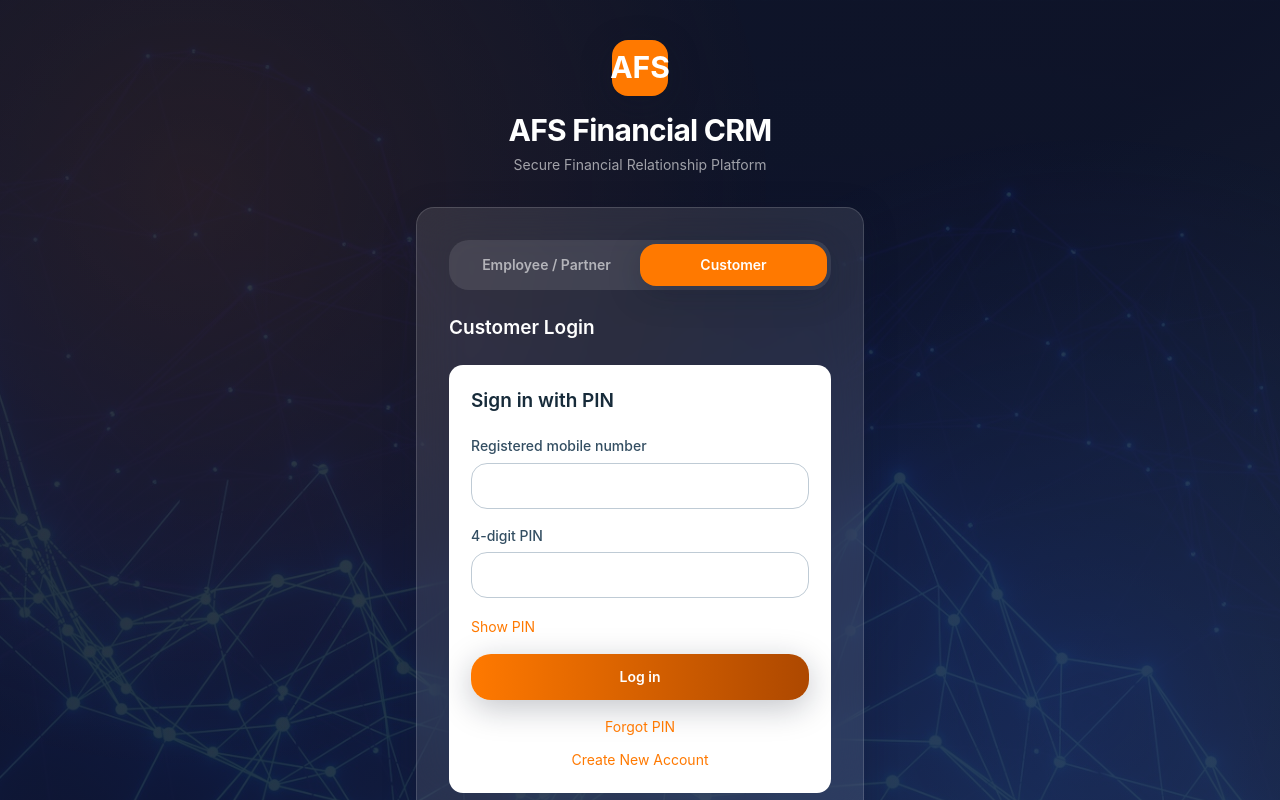
LoginPage default tab › switching to Employee / Partner still works
Click the tab "Employee / Partner" at (546, 265), box x1=453 y1=244 x2=640 y2=286
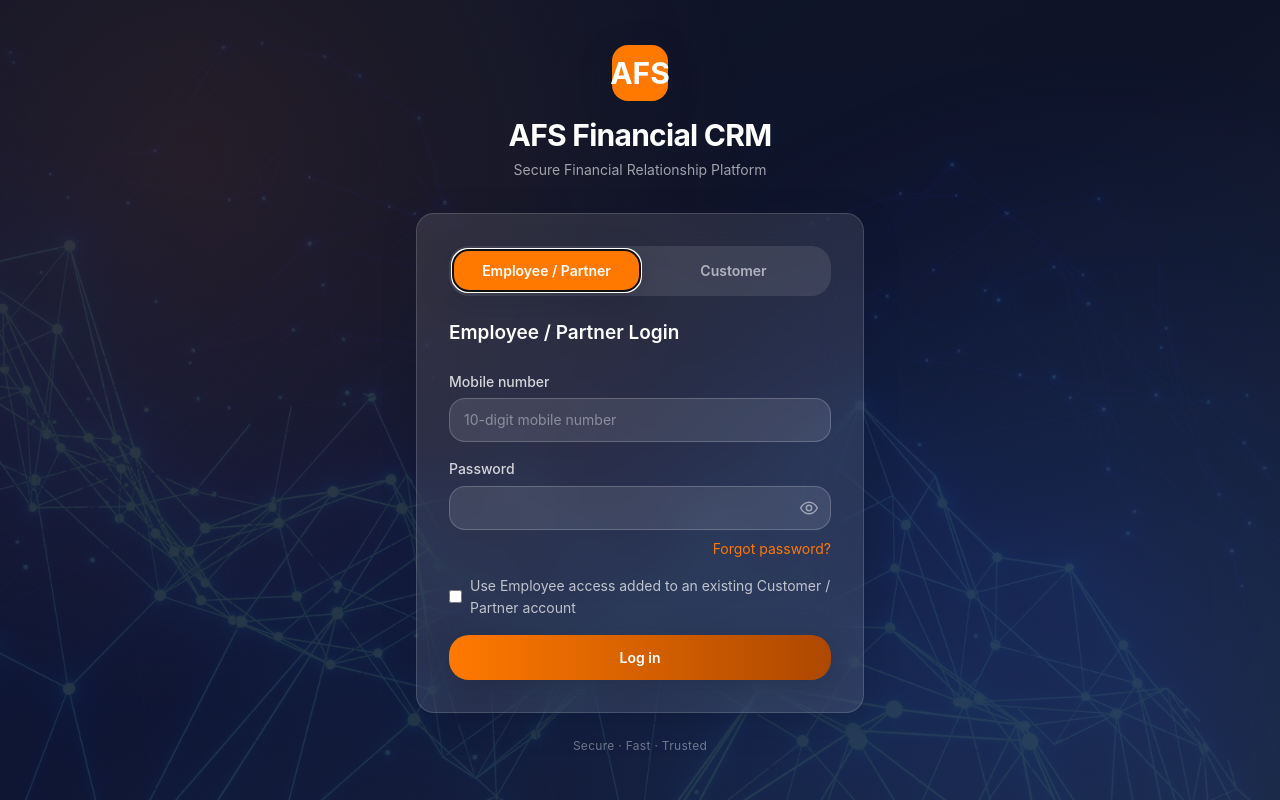
expect the heading "Employee / Partner Login" is shown: met, box x1=449 y1=321 x2=679 y2=344
expect the password field with id "internal-password" is shown: met, box x1=449 y1=486 x2=831 y2=530
expect the label labelled "4-digit PIN" is gone: met
